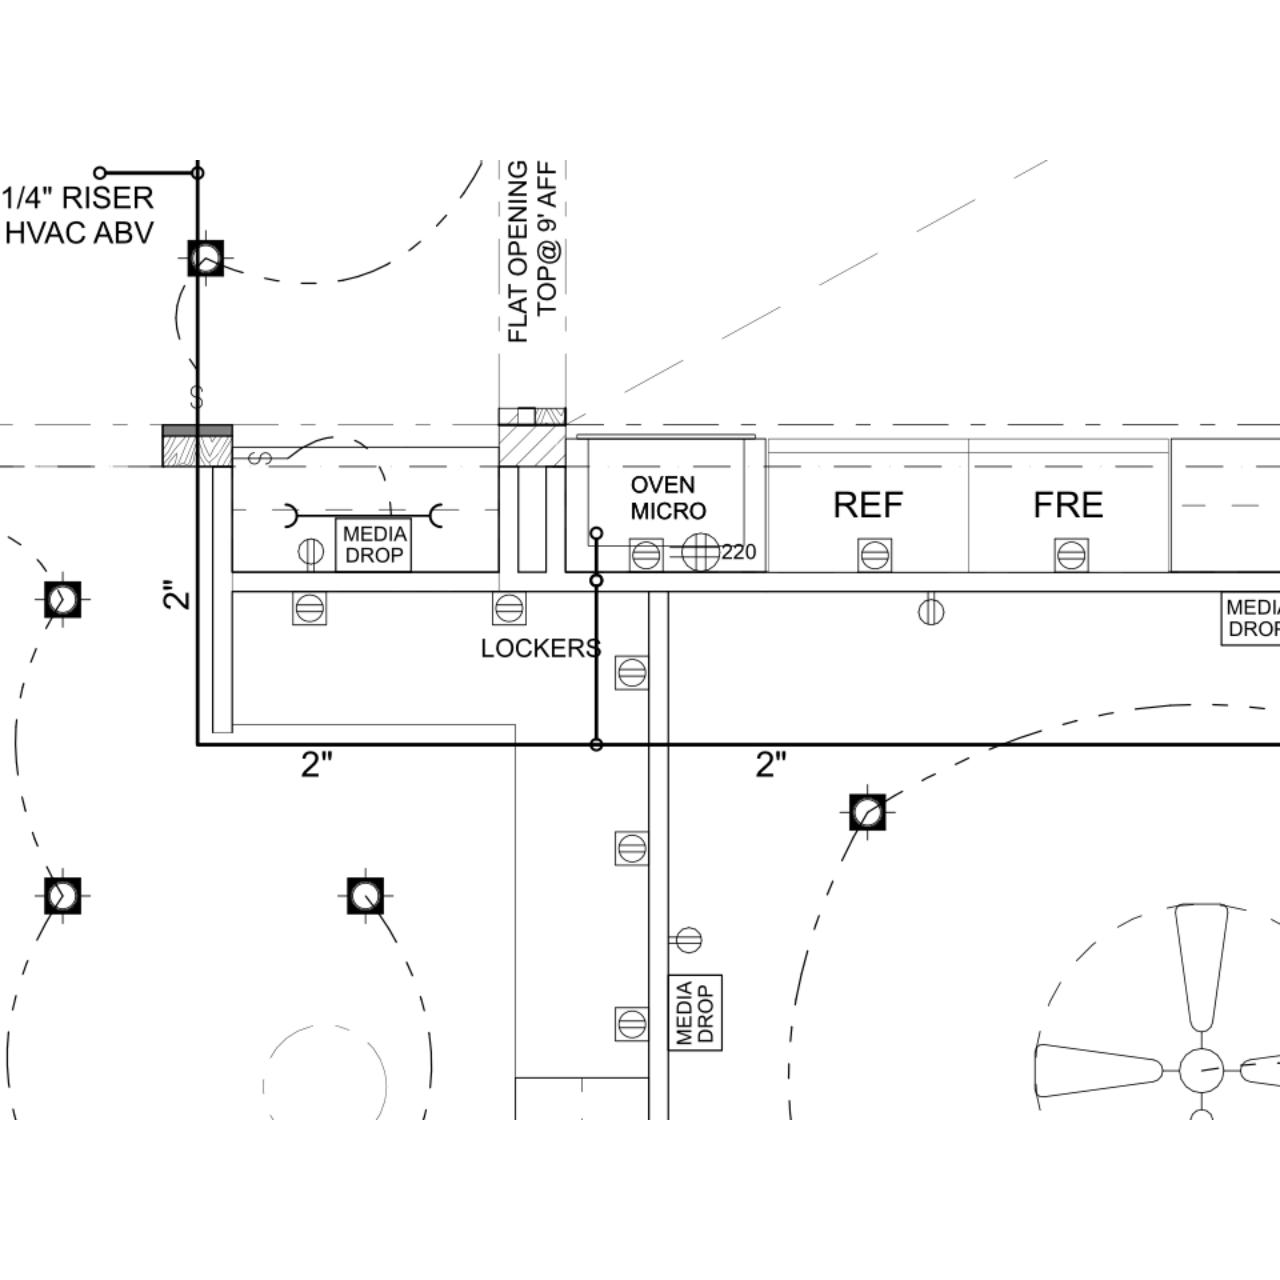220 Volt: (670, 533, 757, 572)
Ceiling Fan: (1030, 900, 1280, 1121)
Duplex Outlet: (667, 927, 704, 955), (297, 536, 326, 570), (918, 593, 945, 626)
GFCIOutlet: (612, 651, 651, 695), (613, 829, 653, 867), (490, 586, 529, 626), (626, 533, 667, 571), (856, 535, 894, 573), (1053, 535, 1091, 573), (290, 591, 333, 625), (613, 1003, 651, 1041)
Switch: (188, 374, 211, 424)
ress_can_light: (179, 230, 233, 284)
